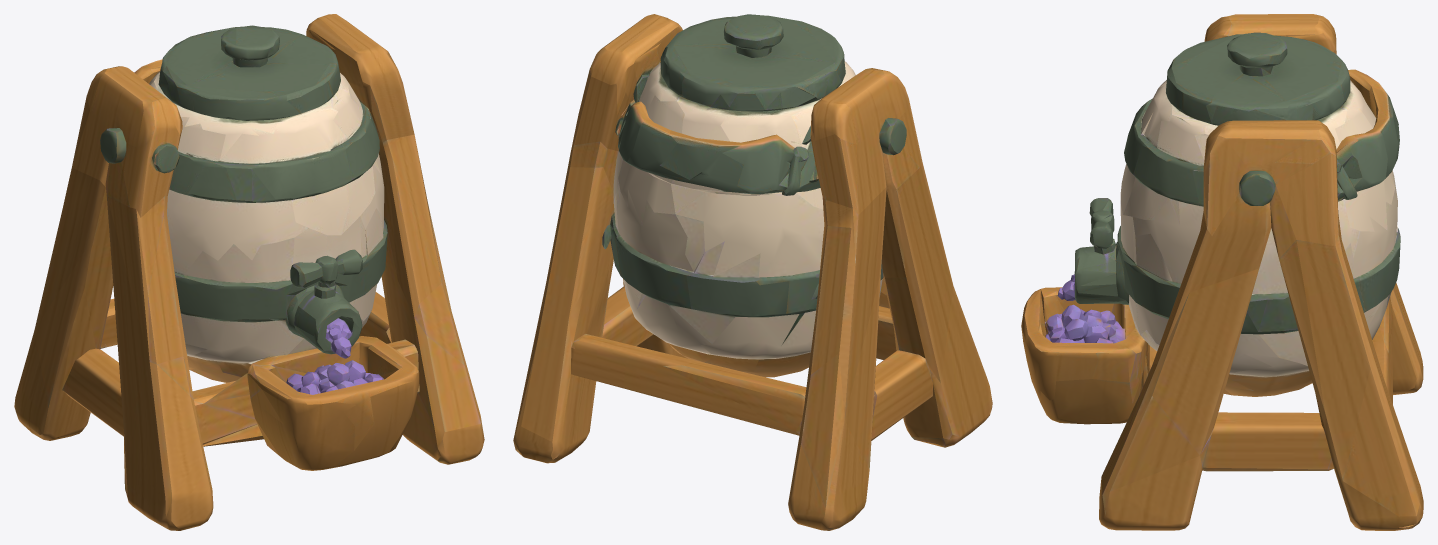
The model's file is keg.glb.
3 renders of one model, left to right at view 1: azimuth 30°, elevation 25°; view 2: azimuth 150°, elevation 25°; view 3: azimuth 270°, elevation 25°, orthographic.
Parts seen in each view (by area): view 1: Mesh_0; view 2: Mesh_0; view 3: Mesh_0.
Boxes of the visible parts, x1,y1,x2,y2 form: Mesh_0: (14, 14, 484, 530); Mesh_0: (513, 14, 992, 530); Mesh_0: (1021, 14, 1423, 530).
Bounding box in the file's own units: 0.6611 × 0.7932 × 0.7.
Materials: 1 (1 with a texture image).
